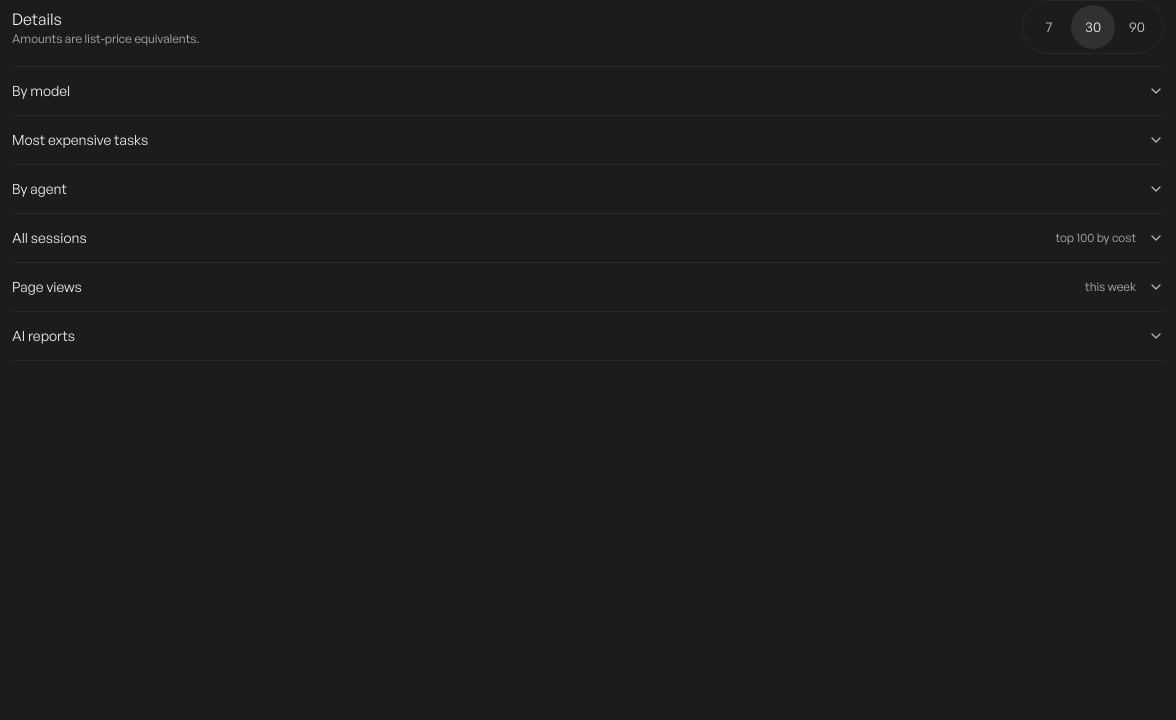
InsightsDetails › names the agent-less cost buckets in the UI language, not the backend's English
Click the button "By agent": (39, 188) [12,165,1164,213]
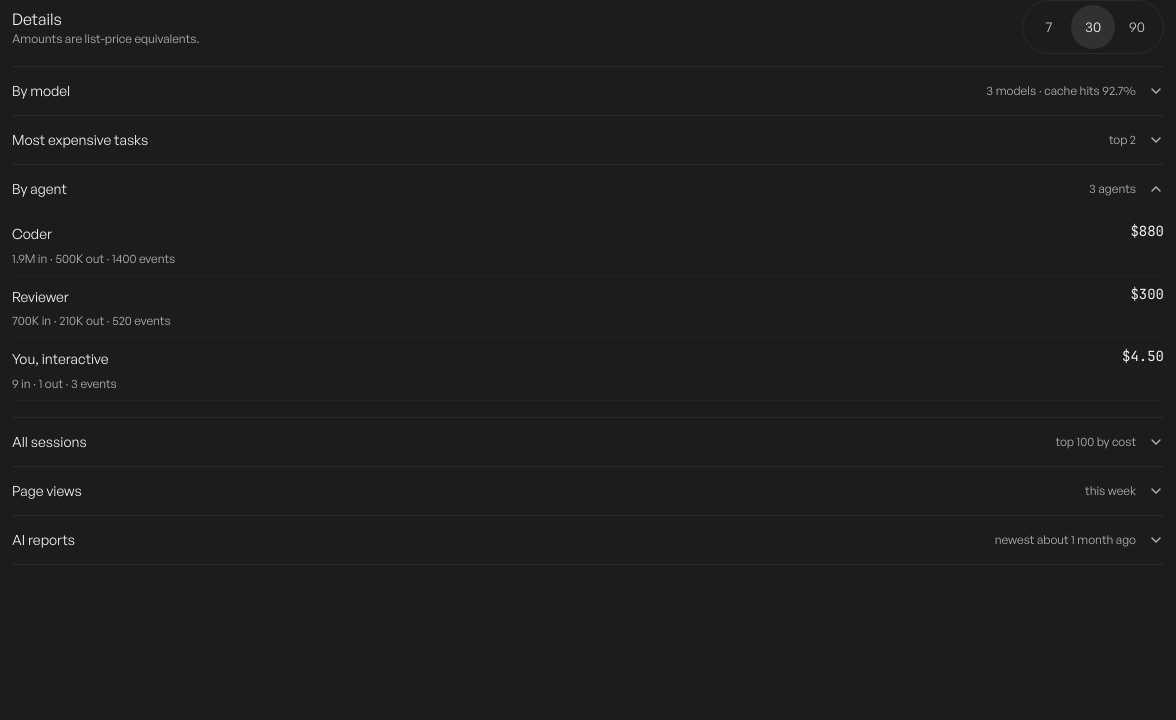
Now the text "You, interactive" is shown, box [12,350,108,367]
